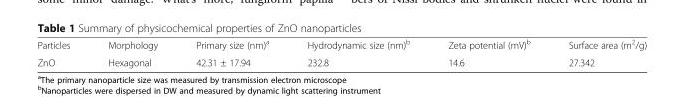table: (36, 37, 646, 67)
table column: (287, 37, 428, 67), (428, 37, 548, 67), (176, 37, 287, 67), (548, 37, 646, 67), (88, 37, 176, 67), (36, 37, 88, 67)
table row: (36, 37, 646, 53), (36, 53, 646, 67)
